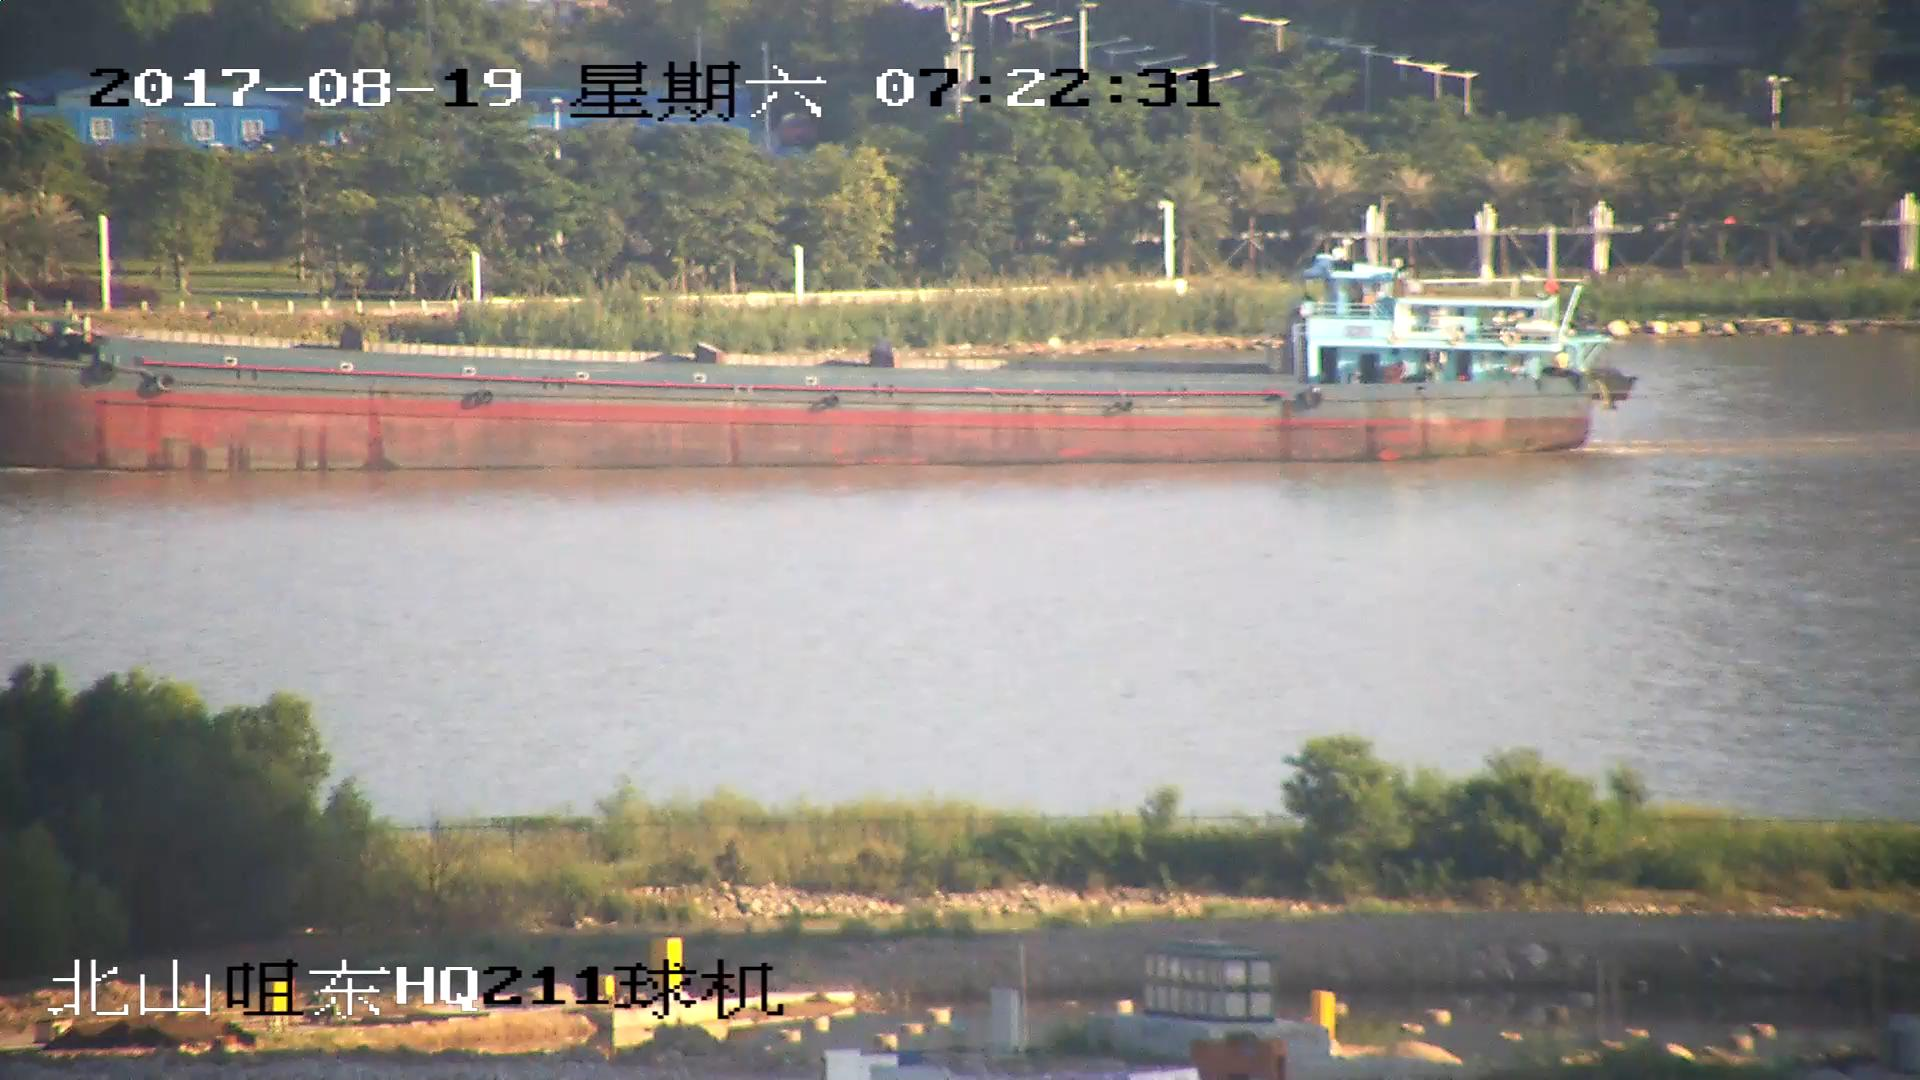bulk cargo carrier: (1, 245, 1628, 473)
